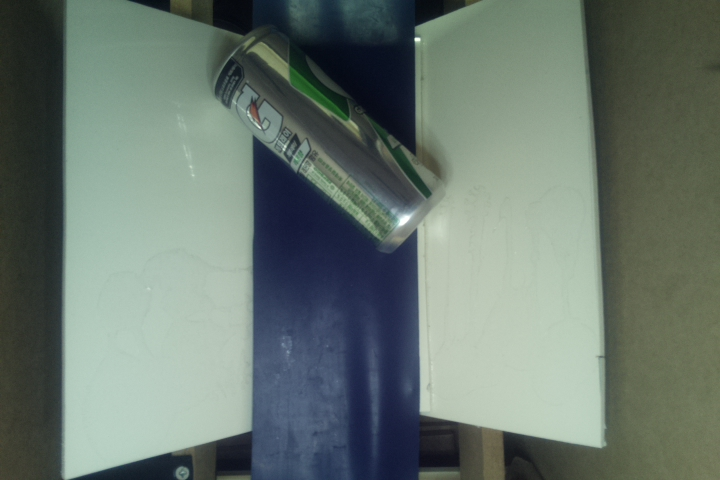can: (213, 24, 450, 257)
